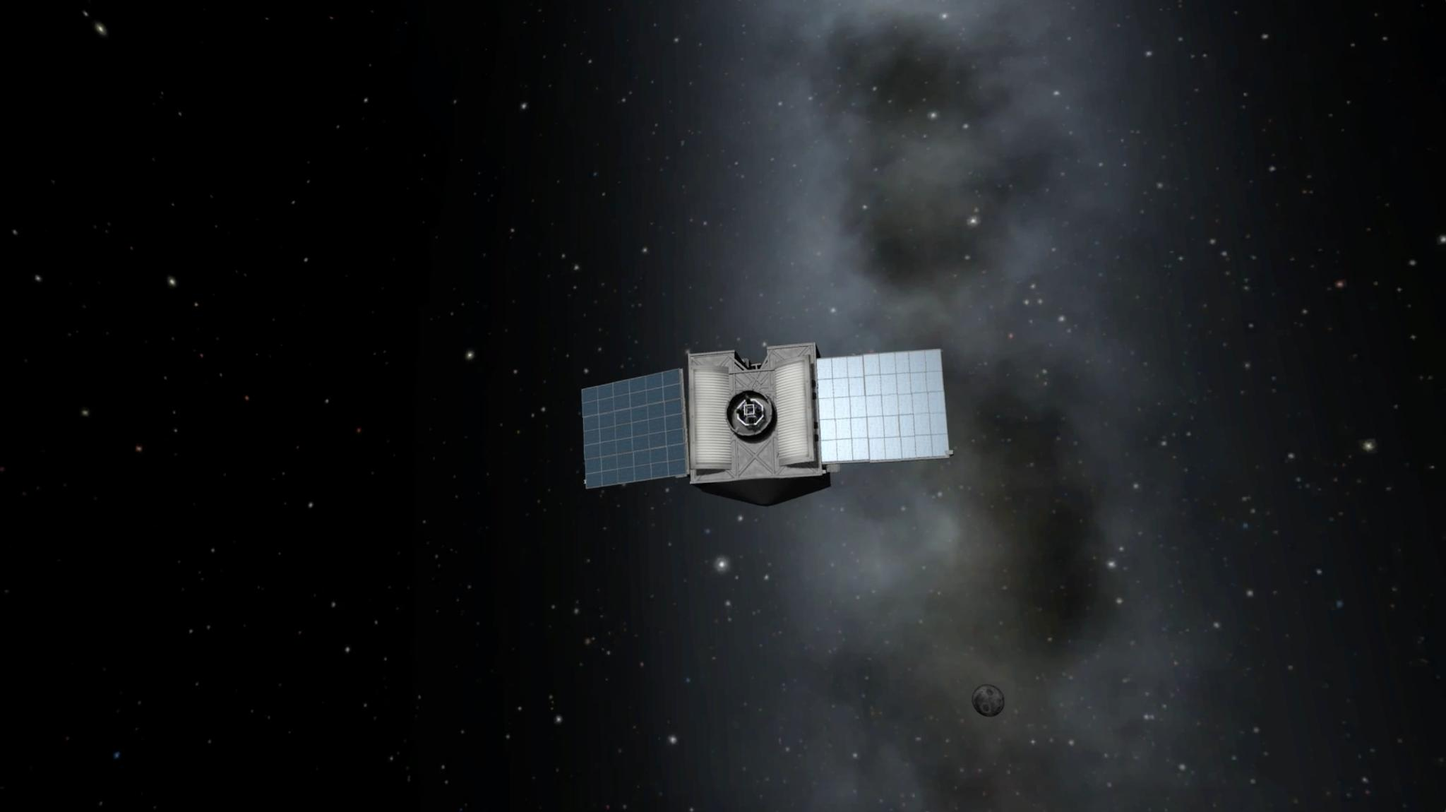body: (681, 333, 829, 501)
solar: (815, 346, 954, 469), (581, 366, 688, 490)
thruster: (755, 405, 763, 414), (746, 417, 754, 425), (745, 397, 752, 404), (735, 408, 742, 415)
